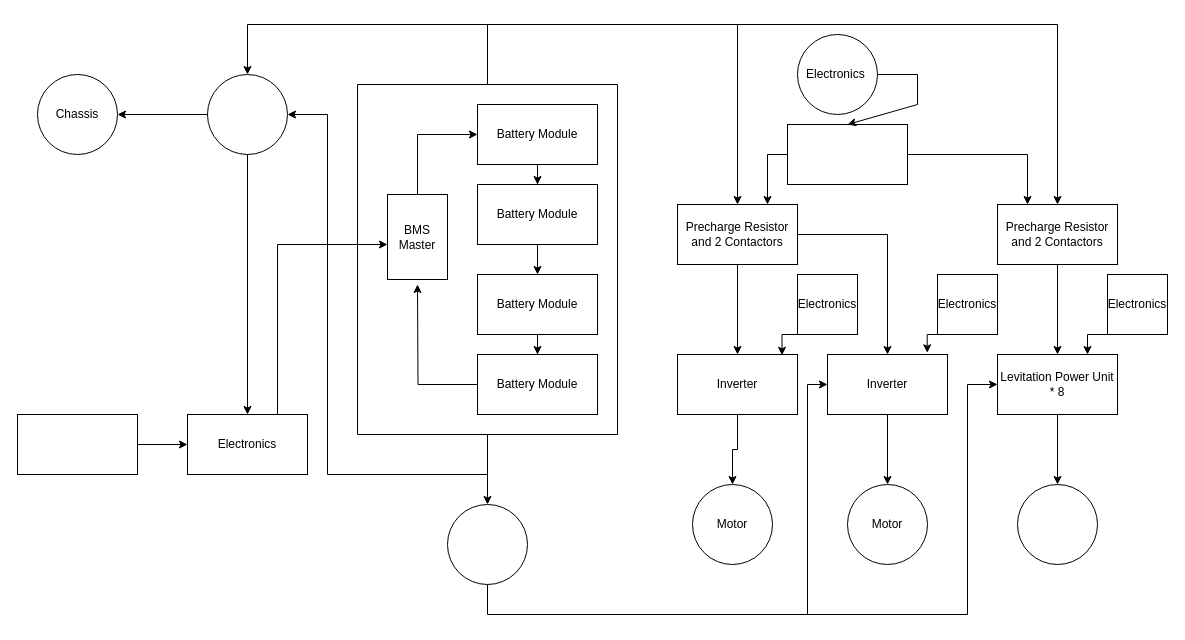
Some shapes in this 1185 by 640 pixel diagram are drawn without their labels. The shapes that lost their labels are listed below. From the top down, each one's centre as x and y in pixels, then its label:
At (247,114): "IMD".
At (847,154): "Estop and inertial switch".
At (487,259): "High Voltage Battery".
At (77,444): "LV Battery 6s".
At (487,544): "MSD".
At (1057,524): "EMS*8".
